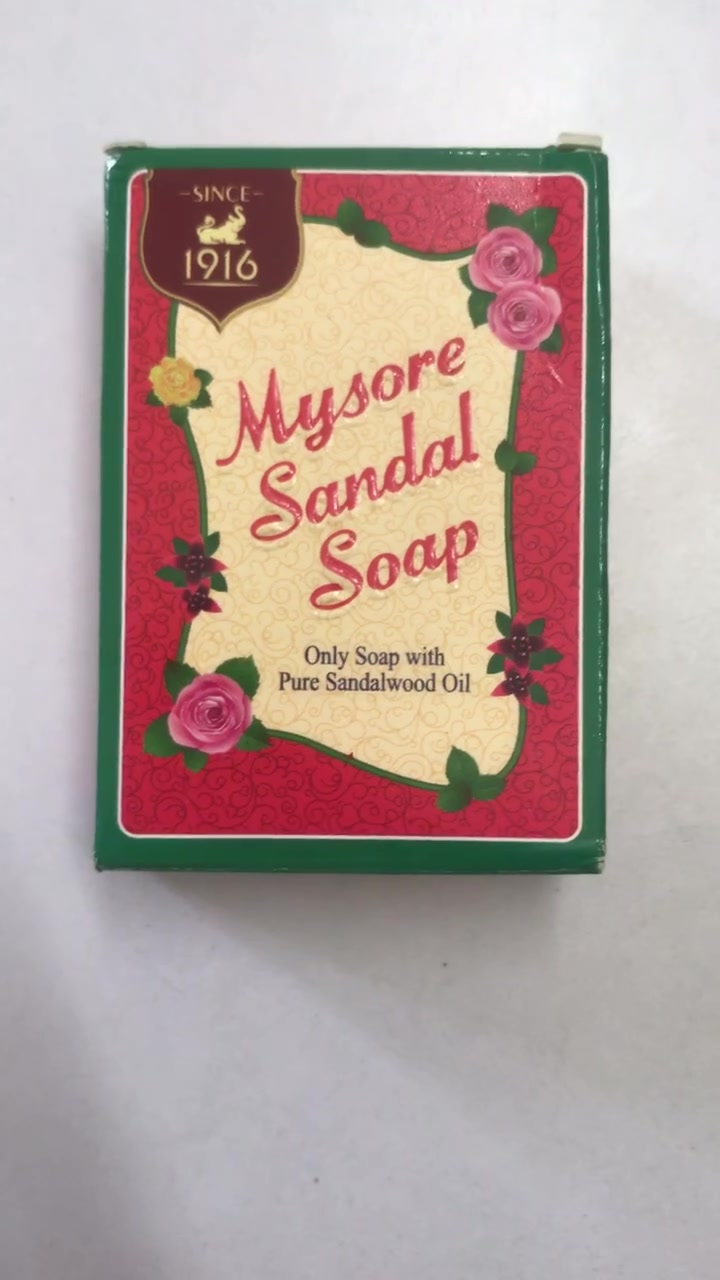mysore sandal soap: (101, 145, 609, 871)
